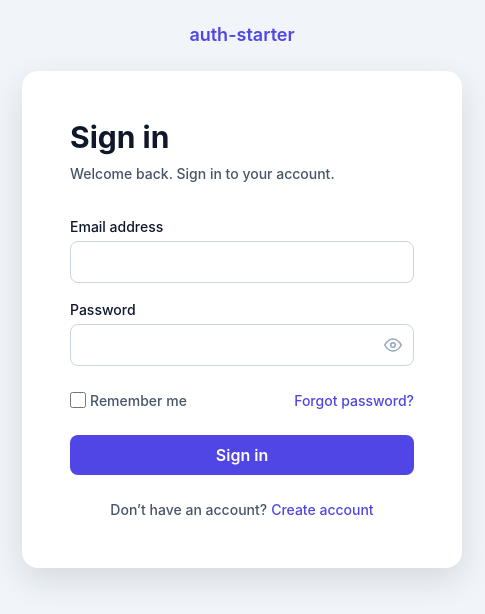
Test case: LoginPage › Form validation › shows password error when password is empty on submit
Type "test@example.com" into the field labelled "Email address".
click(242, 262); type("test@example.com")  # box [70,240,414,282]
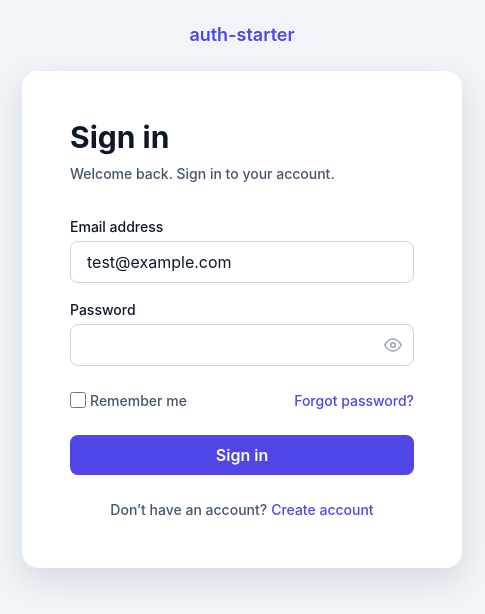
Submit the form
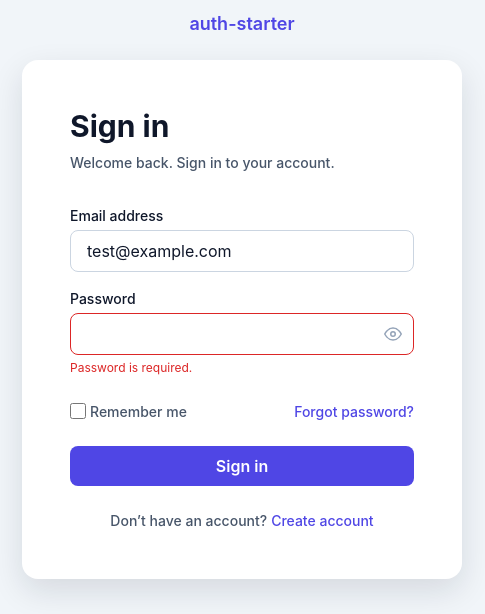
Expected: the text "Password is required." is shown, [70,360,192,374]
